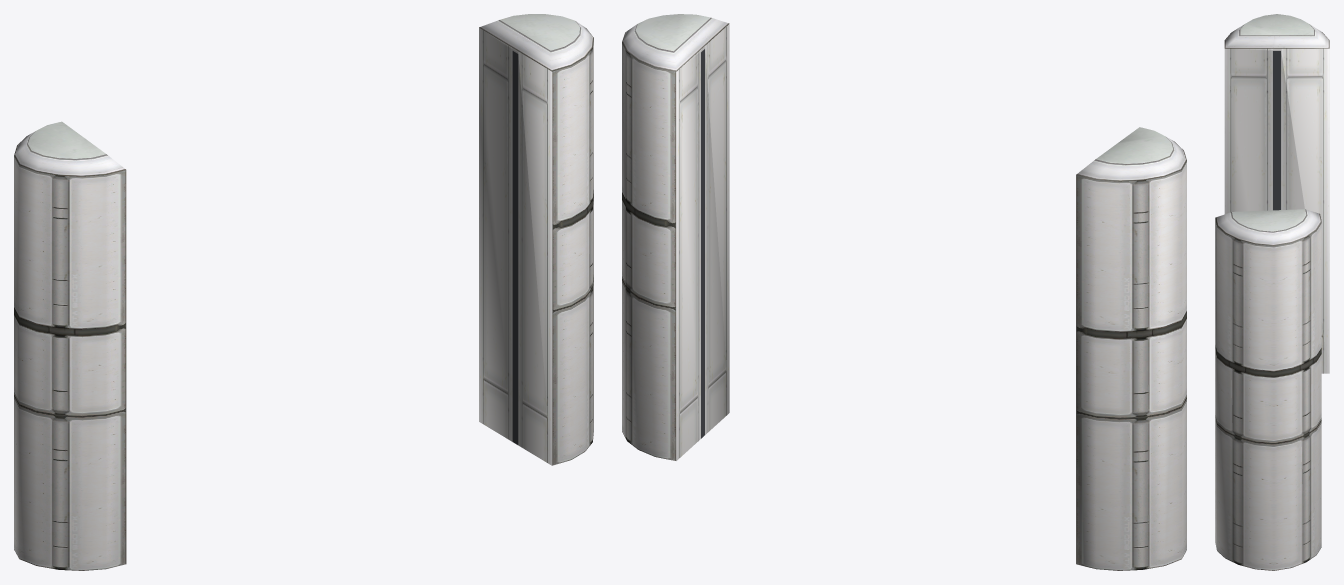
File: STA20_officedivider14.FBX
3 views of the same model, side by side, from view 1: azimuth 30°, elevation 25°; view 2: azimuth 150°, elevation 25°; view 3: azimuth 270°, elevation 25° (orthographic). The views are drawn at different scales.
Parts seen in each view (by area): view 1: STA20_officedivider14; view 2: STA20_officedivider14; view 3: STA20_officedivider14.
Boxes of the visible parts, x1,y1,x2,y2 form: STA20_officedivider14: (14, 14, 593, 570); STA20_officedivider14: (622, 14, 1186, 570); STA20_officedivider14: (1215, 14, 1329, 570).
Size of the model in its own units: 5.01 by 3.43 by 1.06.
